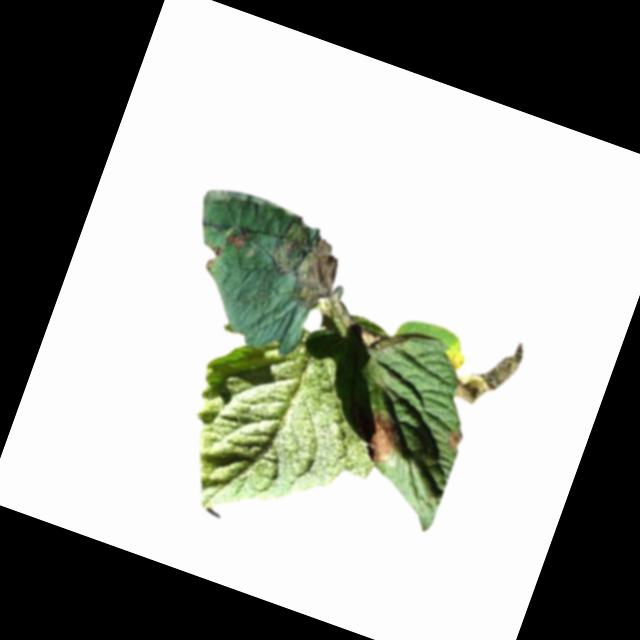Late_blight: (260, 214, 350, 313), (448, 324, 528, 418), (361, 411, 405, 467), (443, 424, 467, 455), (220, 229, 247, 254)
healthy: (159, 299, 409, 557)
